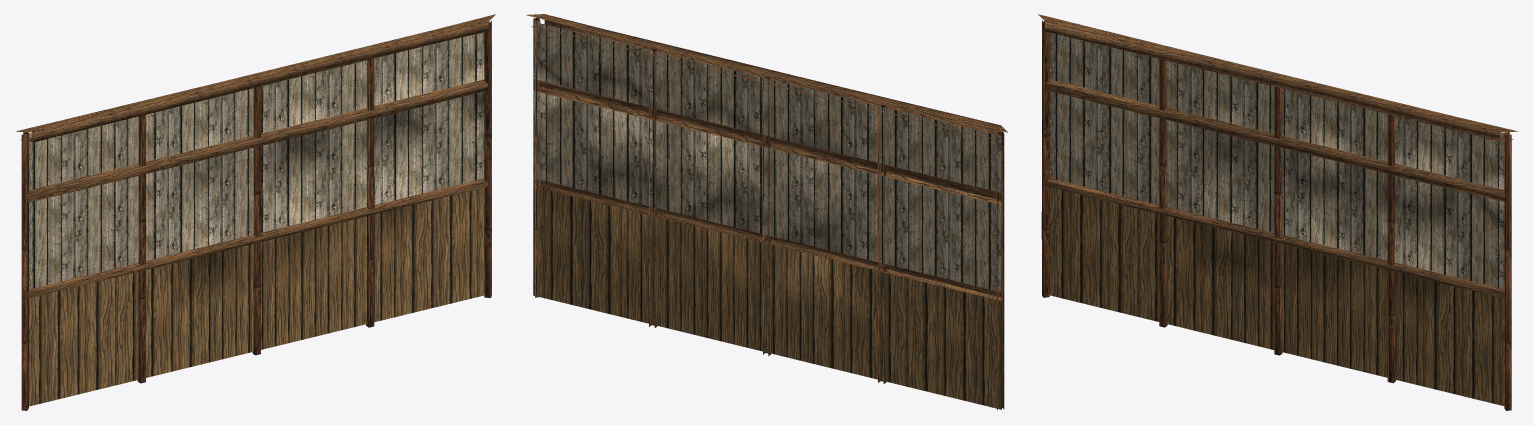
Rendered from LAKETOWN_WAREHOUSE2_PS_WH2_SIDEWALL3838__GX.fbx.
3 renders of one model, left to right at view 1: azimuth 30°, elevation 25°; view 2: azimuth 150°, elevation 25°; view 3: azimuth 330°, elevation 25°, orthographic.
Parts seen in each view (by area): view 1: LAKETOWN_WAREHOUSE2_PS_WH2_SIDEWALL3838__GX; view 2: LAKETOWN_WAREHOUSE2_PS_WH2_SIDEWALL3838__GX; view 3: LAKETOWN_WAREHOUSE2_PS_WH2_SIDEWALL3838__GX.
Boxes of the visible parts, box(x1,y1,x2,y2) form: LAKETOWN_WAREHOUSE2_PS_WH2_SIDEWALL3838__GX: box(15, 14, 495, 410); LAKETOWN_WAREHOUSE2_PS_WH2_SIDEWALL3838__GX: box(526, 14, 1007, 410); LAKETOWN_WAREHOUSE2_PS_WH2_SIDEWALL3838__GX: box(1038, 14, 1518, 410).
Size of the model in its own units: 205285 by 114126 by 4885.
Materials: 5 (5 with a texture image).
